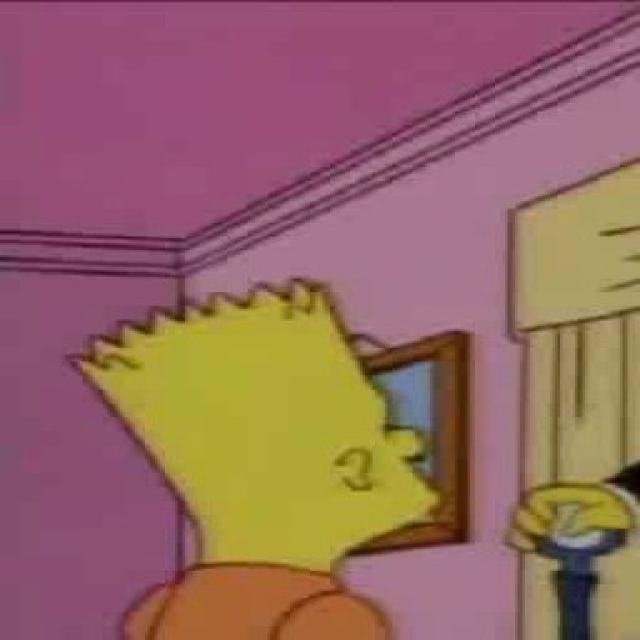Bart Simpson: (69, 275, 441, 579)
